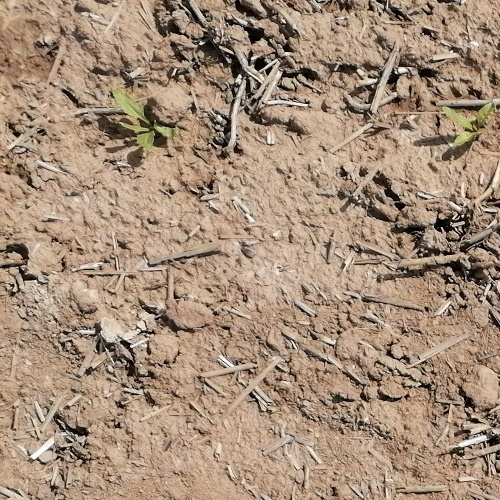beet: (113, 89, 177, 152), (440, 104, 499, 149)
